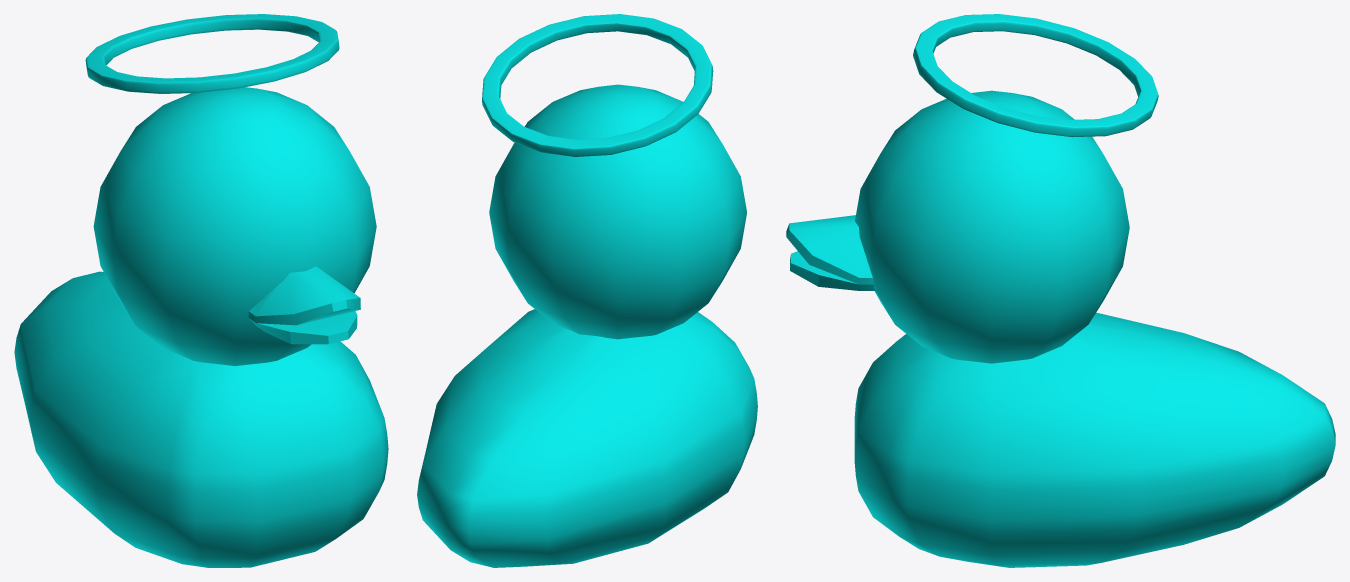
Rendered from RubberDuck_02_001.fbx.
The picture shows the model from 3 angles, left to right: view 1: azimuth 30°, elevation 25°; view 2: azimuth 150°, elevation 25°; view 3: azimuth 270°, elevation 25°; orthographic projection. The views are drawn at different scales.
Visible parts, largest first — view 1: RubberDuck_02_001; view 2: RubberDuck_02_001; view 3: RubberDuck_02_001.
Part boxes in pixels (x1=…): RubberDuck_02_001: x1=14, y1=14, x2=388, y2=567; RubberDuck_02_001: x1=417, y1=14, x2=757, y2=567; RubberDuck_02_001: x1=786, y1=14, x2=1335, y2=567.
Bounding box in the file's own units: 32.24 × 56.51 × 56.86.
